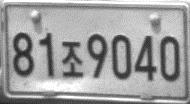0: (159, 35, 181, 82), (111, 34, 131, 80)
1: (38, 31, 56, 77)
4: (133, 34, 157, 82)
8: (12, 32, 34, 77)
9: (86, 33, 108, 79)
조: (61, 40, 84, 78)
